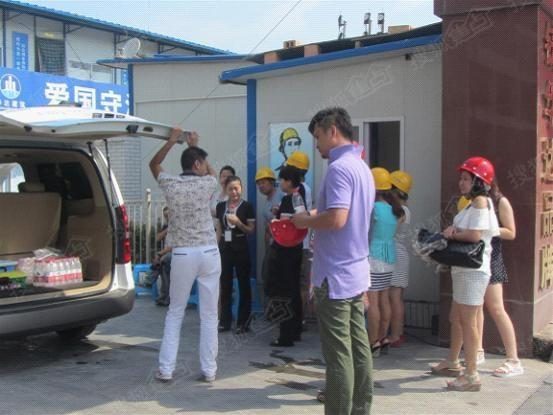helmet: (461, 158, 498, 186), (393, 169, 415, 194), (289, 150, 313, 171), (372, 167, 392, 191), (256, 168, 275, 183)
